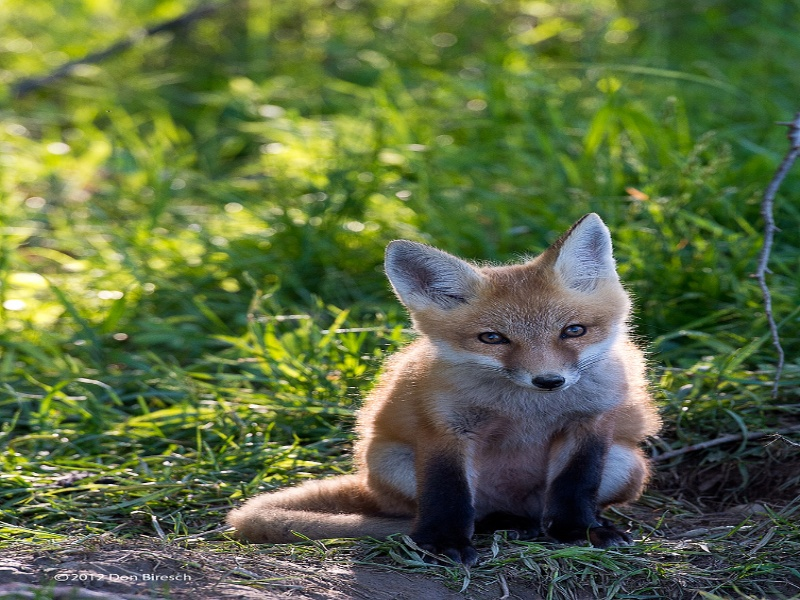fox: (227, 210, 662, 549)
